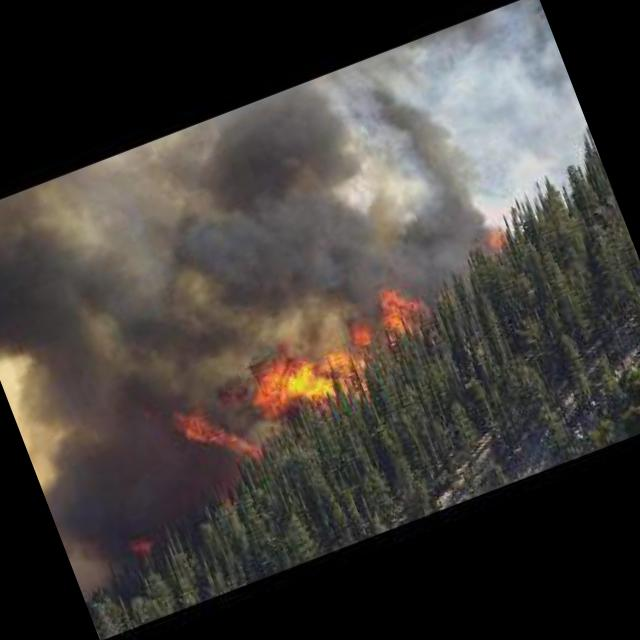fire: (144, 258, 469, 479), (466, 216, 520, 271)
